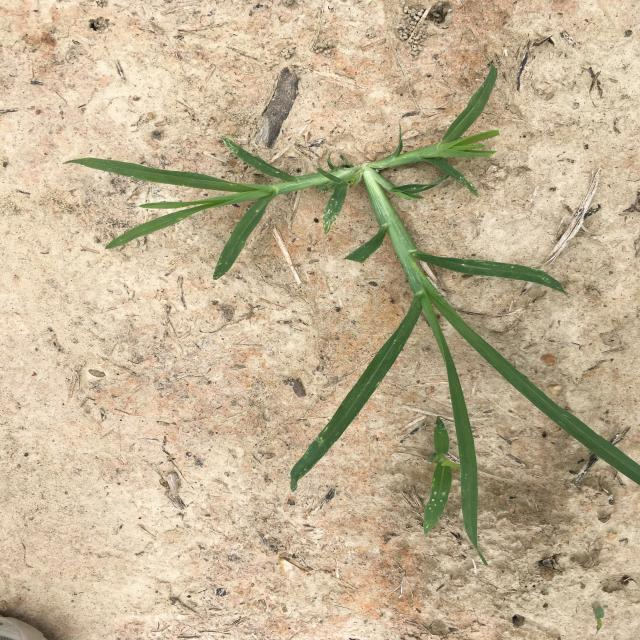Goosegrass: (62, 65, 638, 560)
